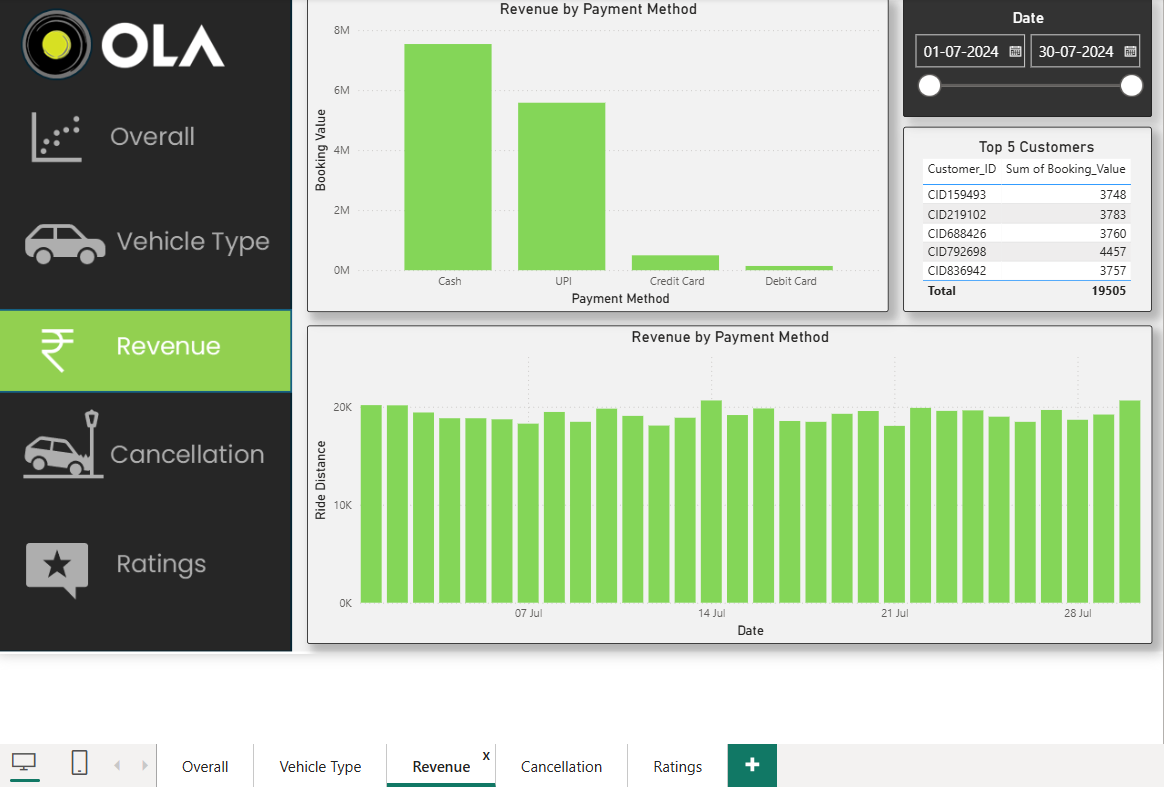

The dashboard page shown, as its layout file describes it:
{"tool":"powerbi","page":{"name":"Revenue","canvas":[1280,720],"ordinal":2},"visuals":[{"type":"actionButton","box":[0,224.4,324.5,90.5],"z":0},{"type":"actionButton","box":[0,345,324.5,85.7],"z":1000},{"type":"actionButton","box":[0,442.8,324.5,114.6],"z":2000},{"type":"actionButton","box":[1.2,577.9,324.5,101.3],"z":3000},{"type":"actionButton","box":[0,107,325.2,102.9],"z":4000},{"type":"columnChart","title":"Revenue by Payment Method","fields":{"Y":["Sum(July.Booking_Value)"],"Category":["July.Payment_Method"]},"box":[340.3,0,638.1,344.4],"z":5000},{"type":"columnChart","title":"Revenue by Payment Method","fields":{"Y":["Sum(July.Ride_Distance)"],"Category":["July.Date"]},"box":[340.3,359.5,927.6,349.9],"z":6000},{"type":"slicer","title":"Date","fields":{"Values":["July.Date"]},"box":[994.9,0,273.1,130.4],"z":7000},{"type":"tableEx","title":"Top 5 Customers","fields":{"Values":["July.Customer_ID","Sum(July.Booking_Value)"]},"box":[994.9,141.3,273.1,203.1],"z":8000}]}

Visuals, with their boxes on the page's 1280x720 design canvas (x1, y1, x2, y2). These are canvas units, not pixel positions in the 1164x787 screenshot, which may show the page scaled, cropped or inside an application window:
actionButton: select_region(0, 224, 324, 315)
actionButton: select_region(0, 345, 324, 431)
actionButton: select_region(0, 443, 324, 557)
actionButton: select_region(1, 578, 326, 679)
actionButton: select_region(0, 107, 325, 210)
"Revenue by Payment Method" columnChart: select_region(340, 0, 978, 344)
"Revenue by Payment Method" columnChart: select_region(340, 360, 1268, 709)
"Date" slicer: select_region(995, 0, 1268, 130)
"Top 5 Customers" tableEx: select_region(995, 141, 1268, 344)
